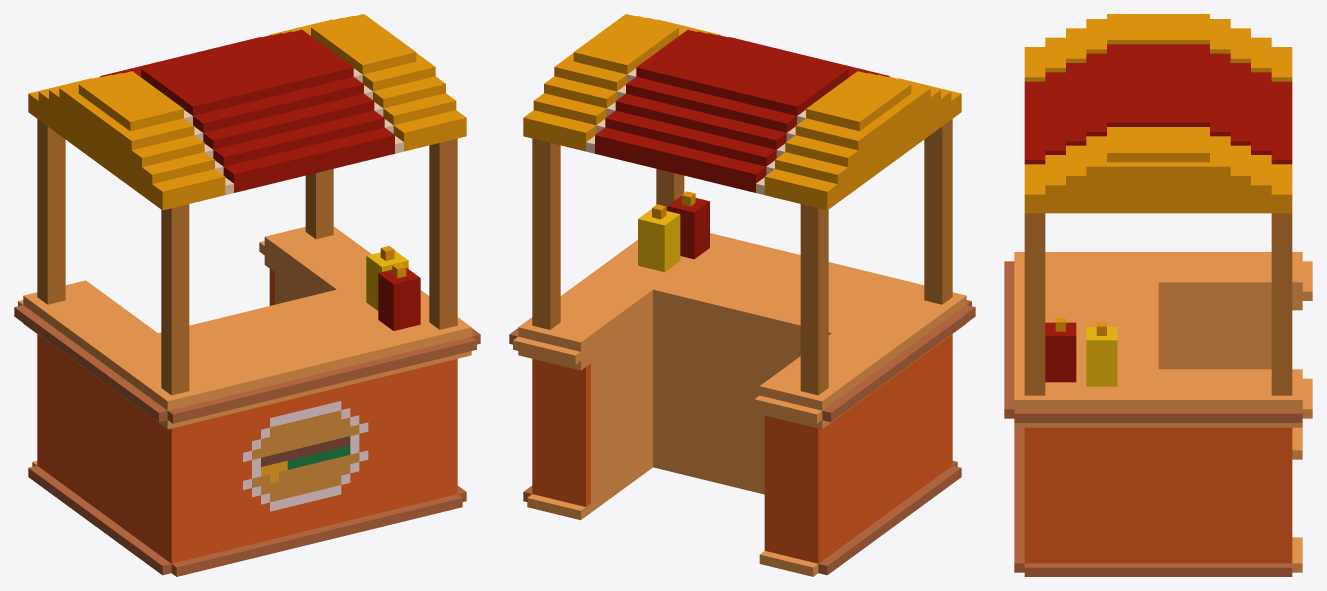
The model's file is fastfood.obj.
3 views of the same model, side by side, from view 1: azimuth 30°, elevation 25°; view 2: azimuth 150°, elevation 25°; view 3: azimuth 270°, elevation 25° (orthographic).
Bounding box in the file's own units: 3.6 × 4.5 × 3.
1 material, 1 textured.
